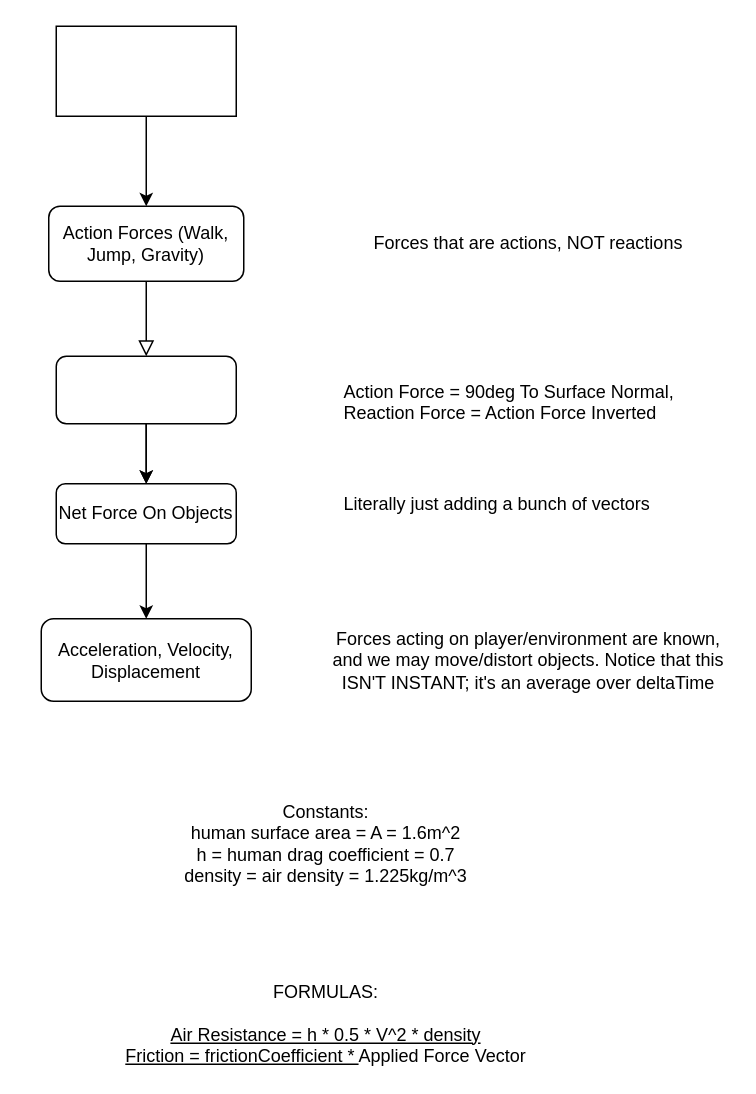
The diagram is 756 pixels wide and 1094 high, and some of its shapes have lost their labels. The shapes that lost their labels are listed below. From the top down, each one's centre as x and y in pixels, then its label:
At pixel 145 70: "Turn keyboard inputs into Physics events".
At pixel 145 389: "Reaction Forces (Air Resistance, Sliding Friction)".
